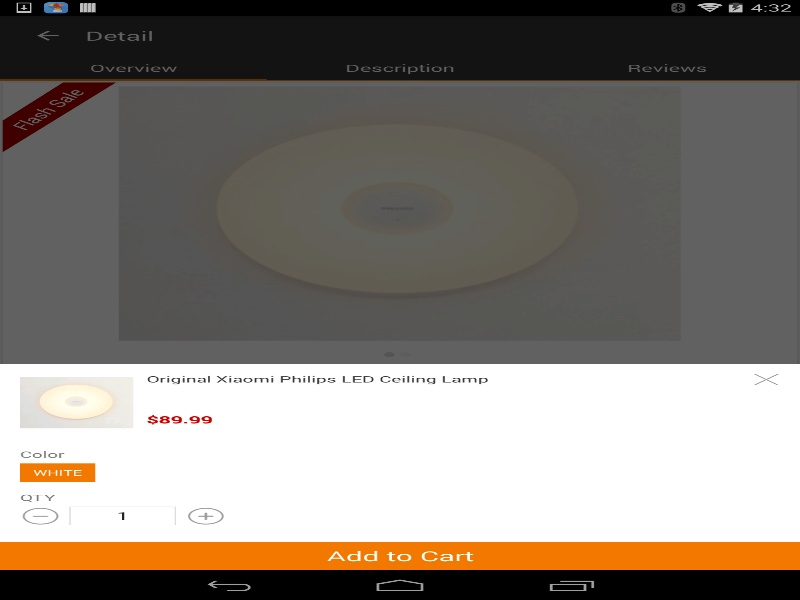Input: (69, 506, 176, 525)
